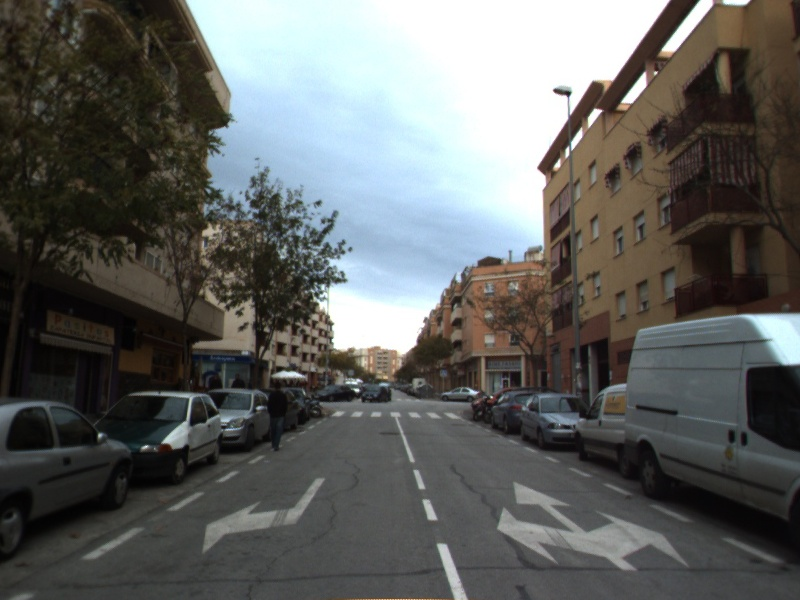STRAIGHT_LEFT_RIGHT: (494, 477, 695, 573)
